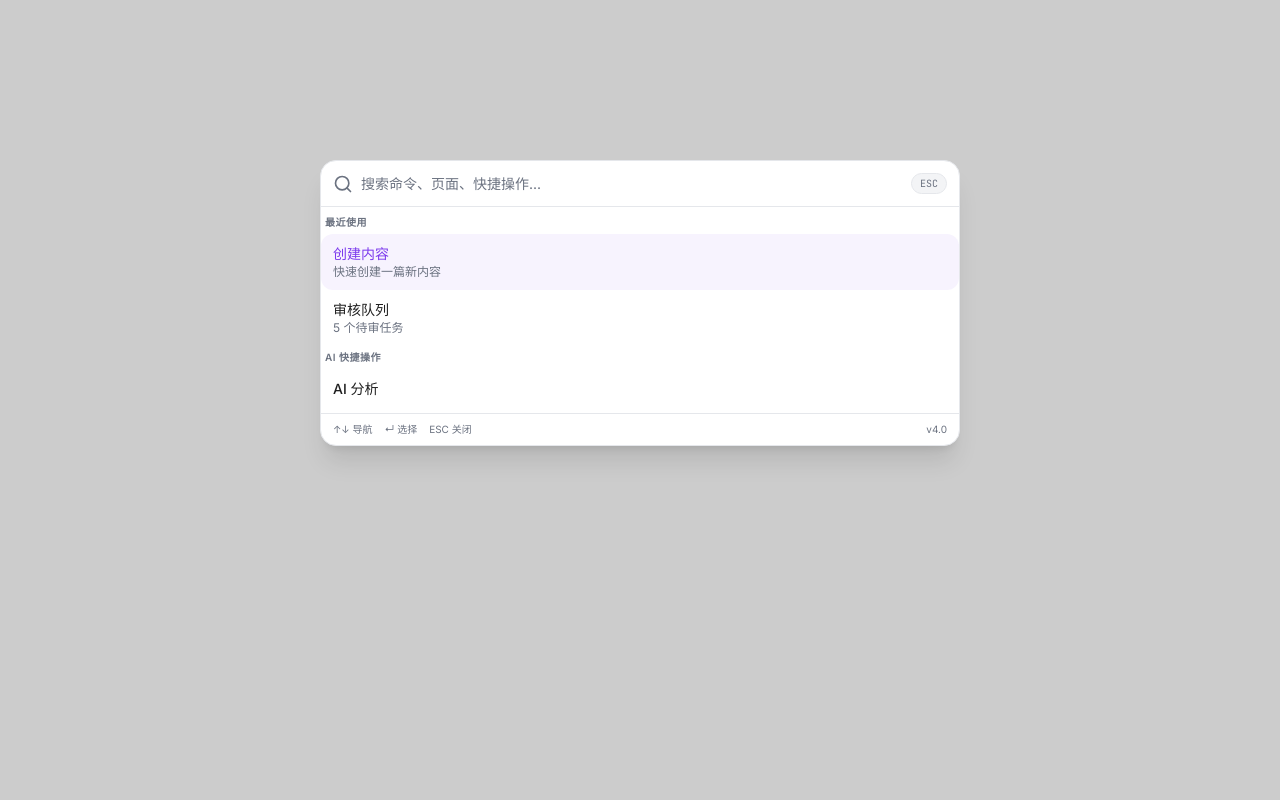
Test: CommandPalette › shows empty state when no match
Type "zzzzz" into the field with placeholder "搜索命令、页面、快捷操作..." at (632, 184), box [361, 174, 903, 194]
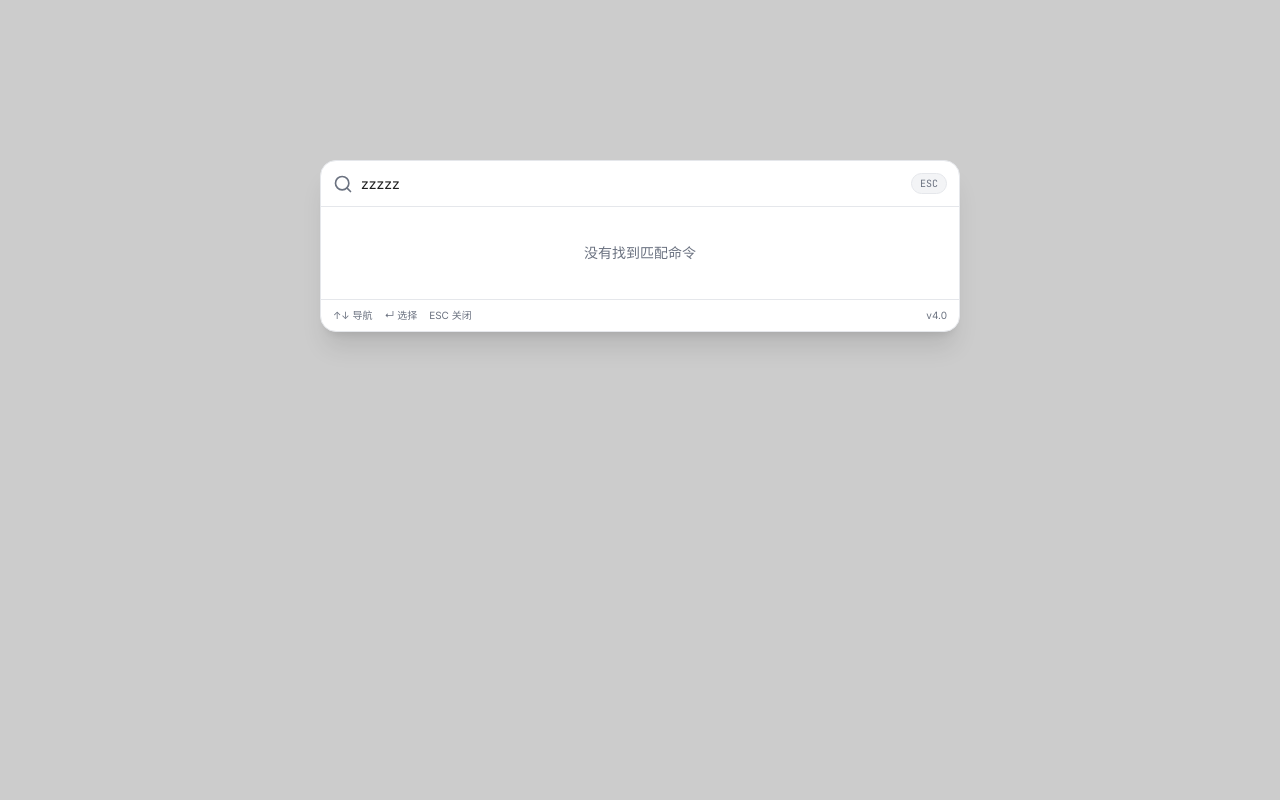
Check: the text "没有找到匹配命令" is shown, box [584, 244, 696, 261]
